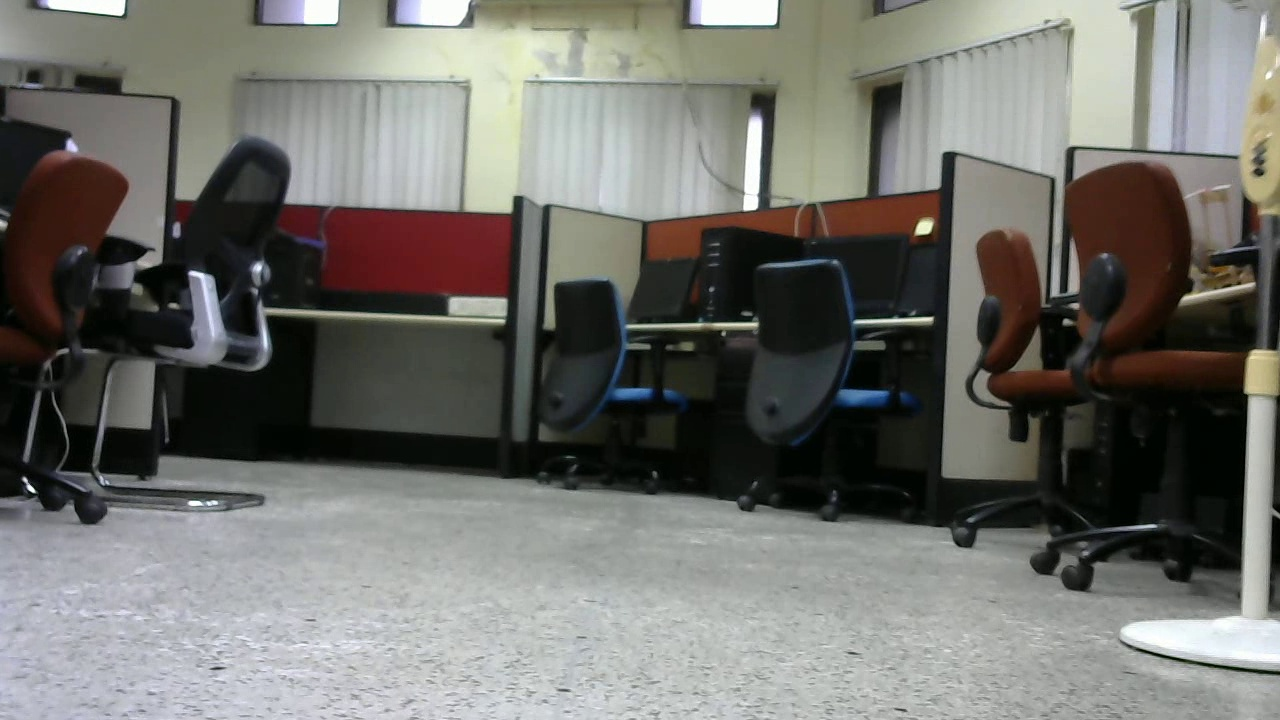chair: (1043, 155, 1251, 595), (129, 132, 283, 512), (731, 260, 922, 526), (954, 226, 1103, 555), (1, 148, 122, 526), (537, 278, 697, 498)
